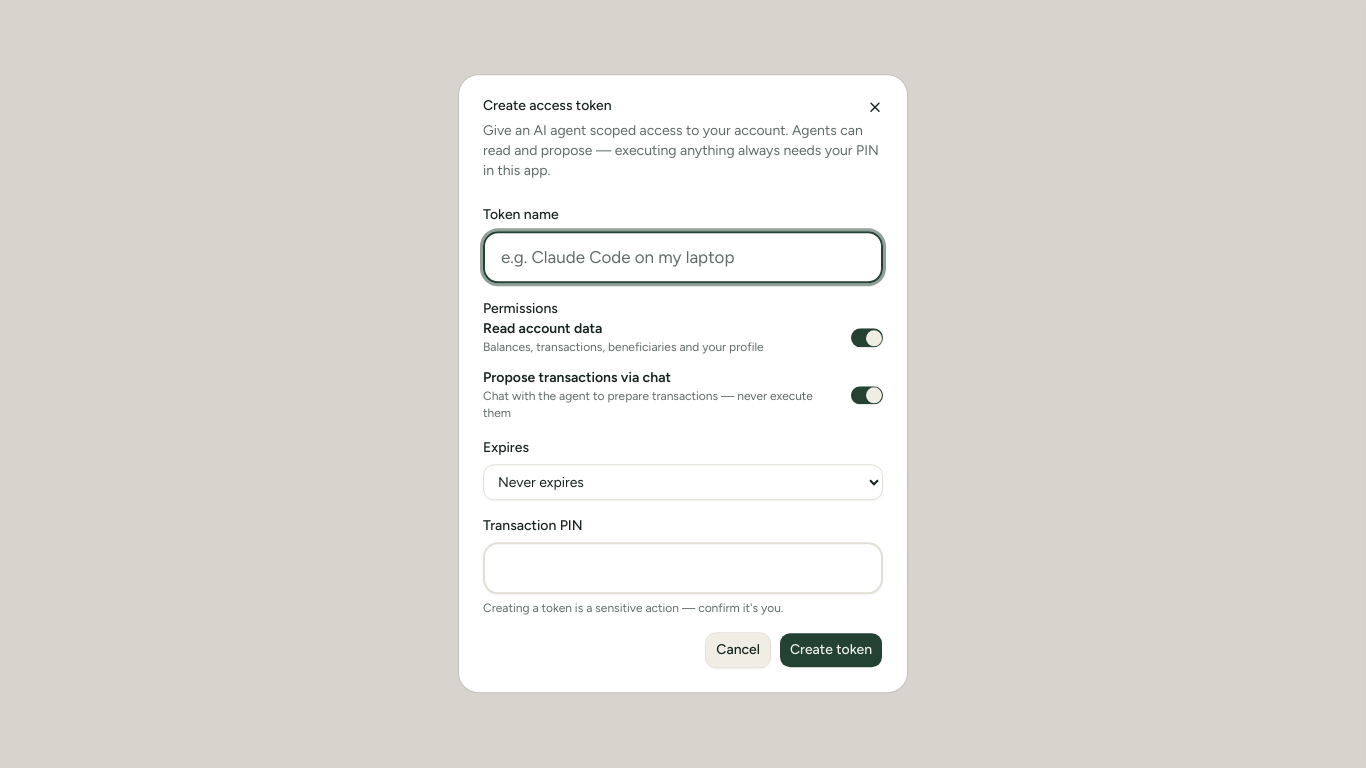
CreateTokenDialog › requires at least one scope
Click the switch named "read account data".
click(867, 338)  # box [851,329,883,347]
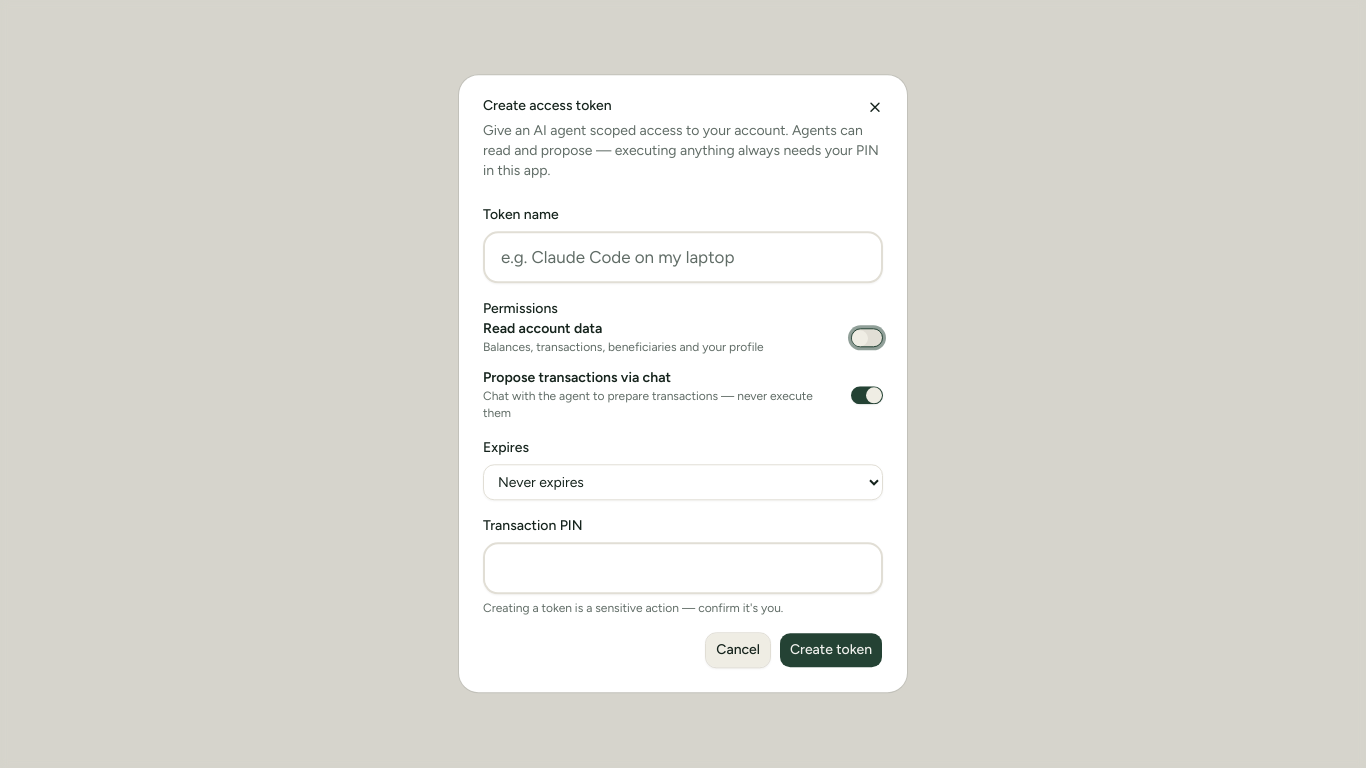
Click the switch named "propose transactions via chat".
click(867, 396)  # box [851,386,883,405]
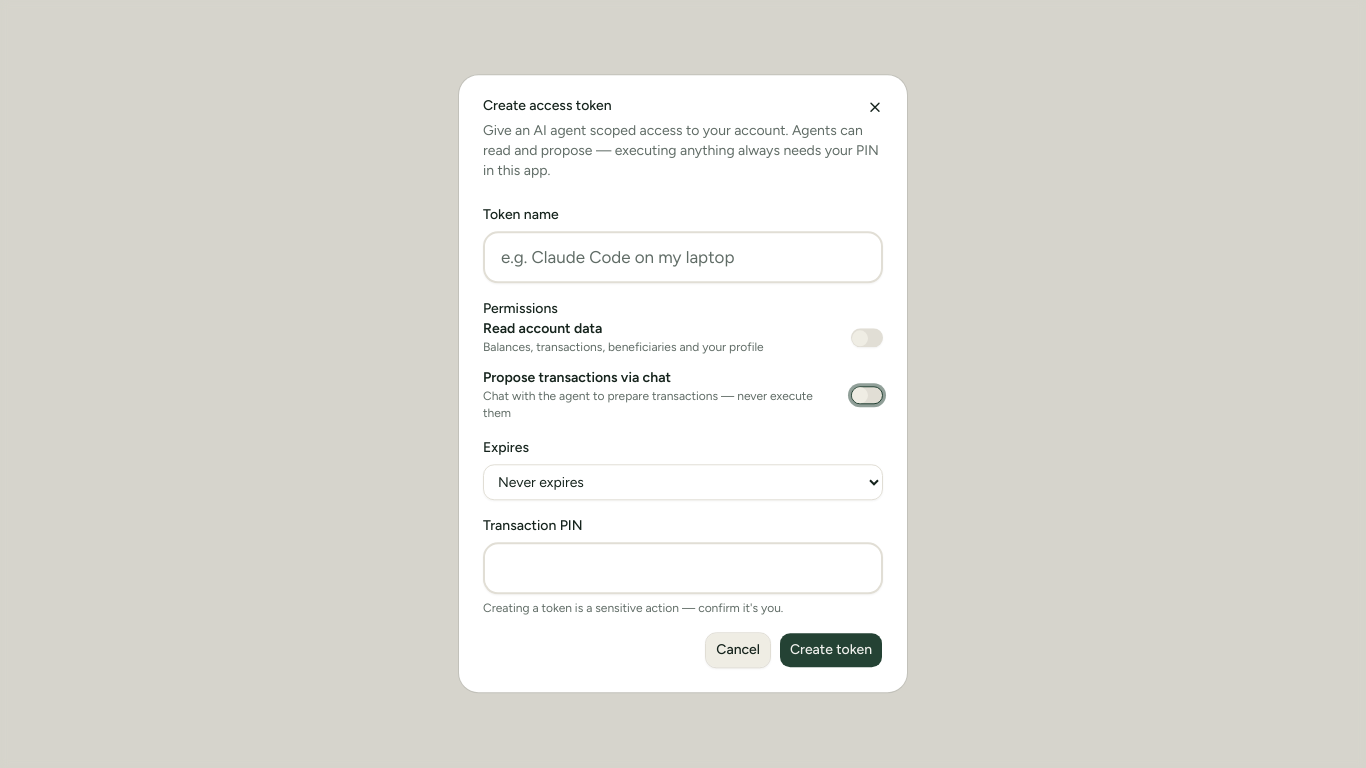
Type "Claude" into the field labelled "Token name".
click(683, 257); type("Claude")  # box [483,231,883,283]
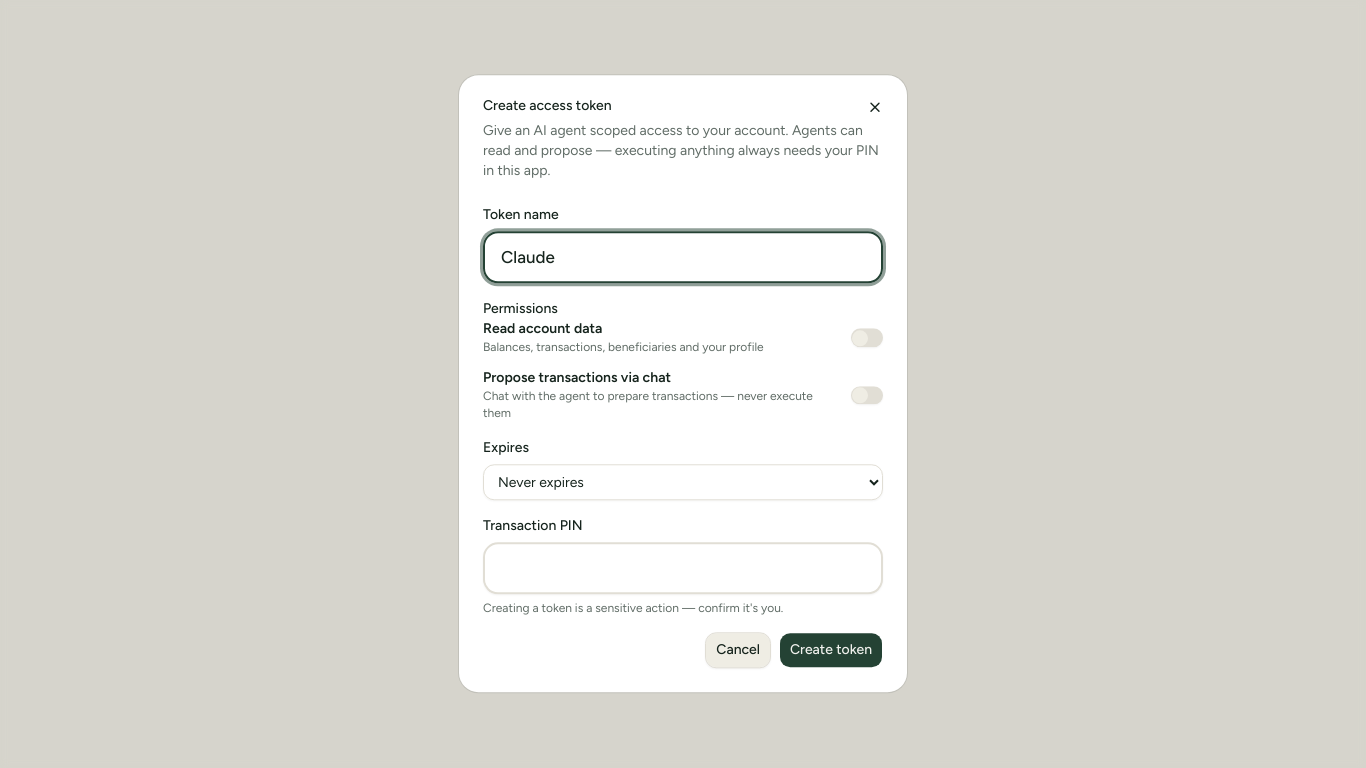
Type "1234" into the password field labelled "Transaction PIN".
click(683, 569); type("1234")  # box [483,543,883,595]
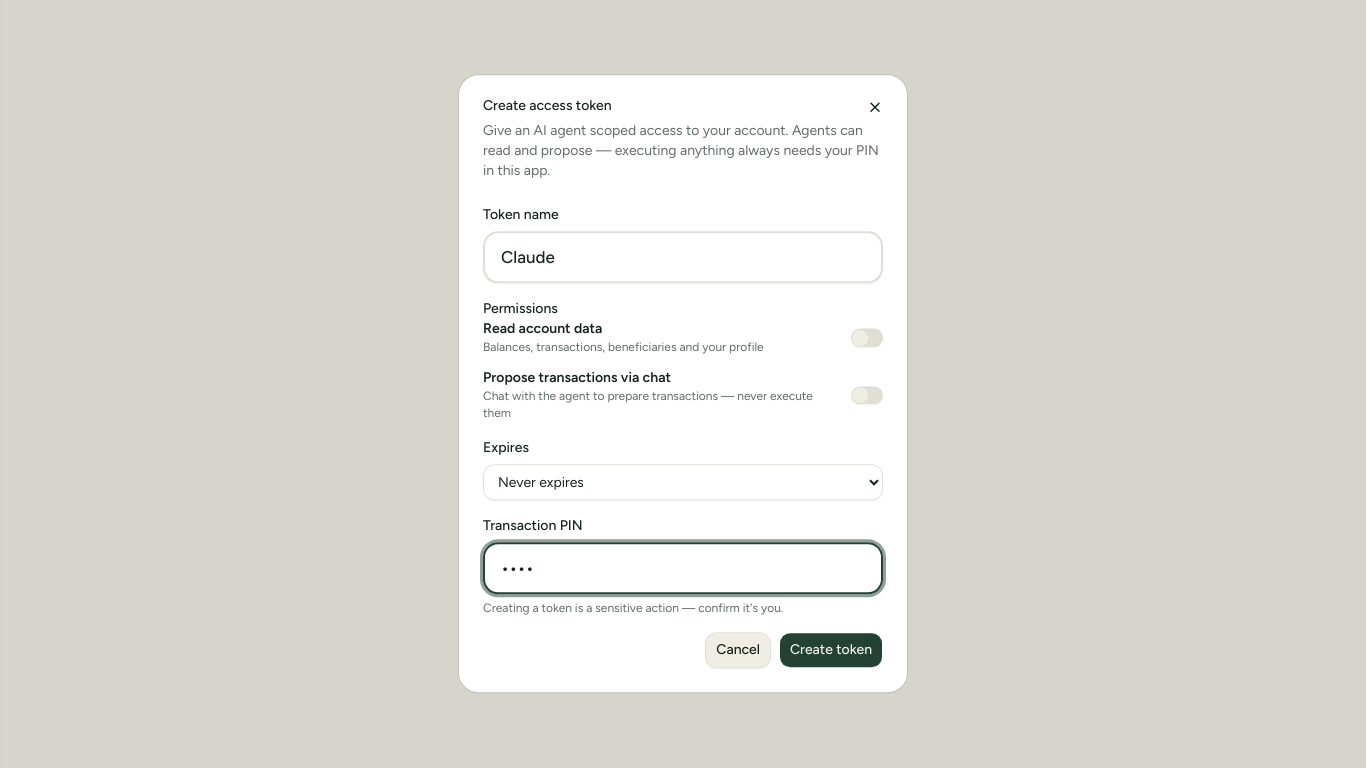
Click the button "Create token".
click(831, 651)  # box [779,633,883,669]
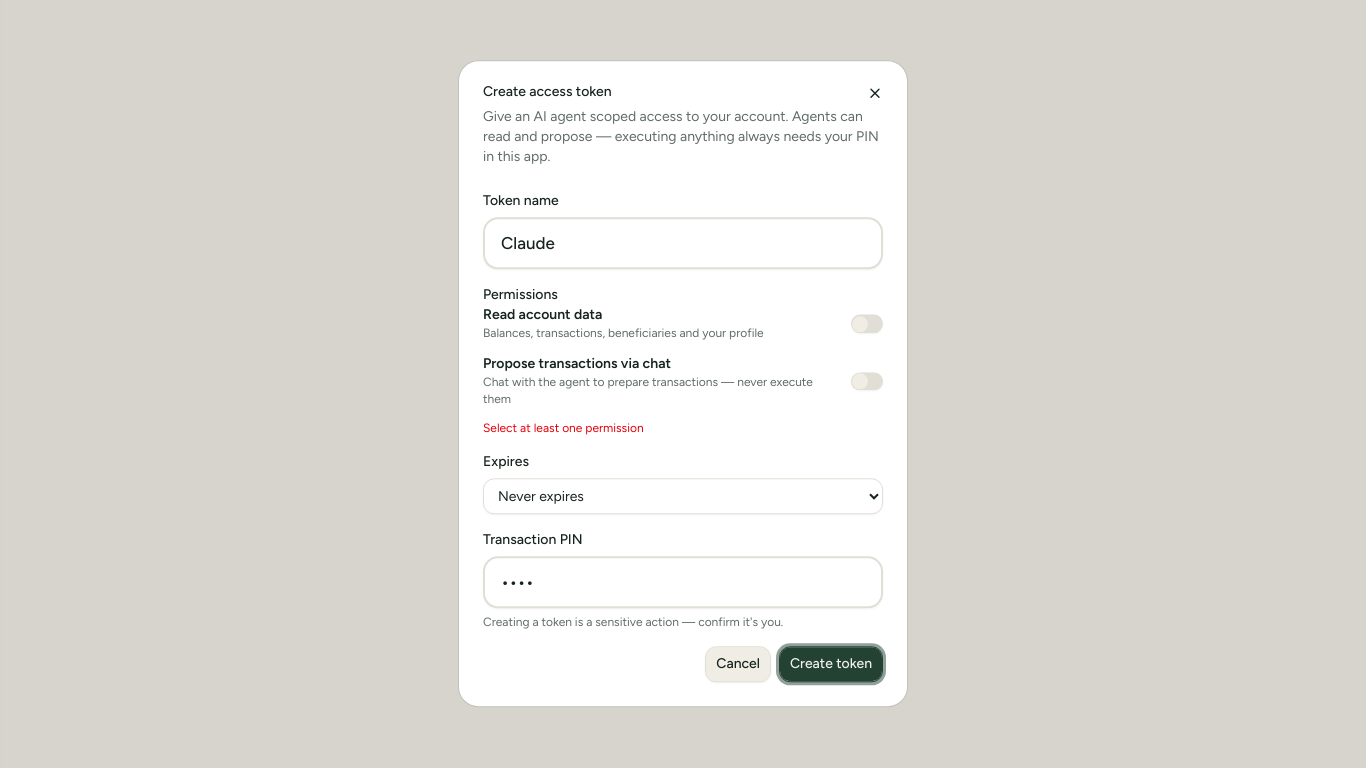
Now the text "Select at least one permission" is shown, box [483,422,644,436]
